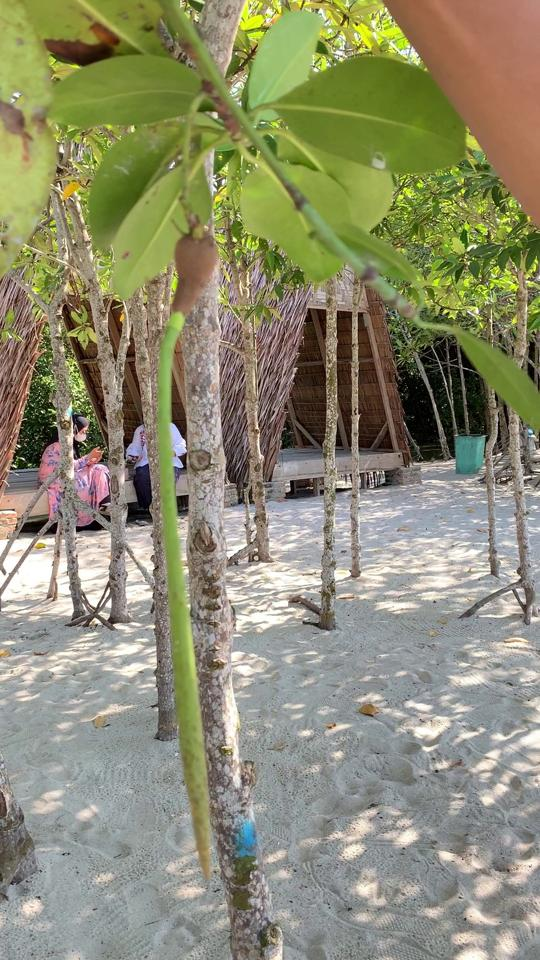setengah matang: (145, 212, 263, 886)
